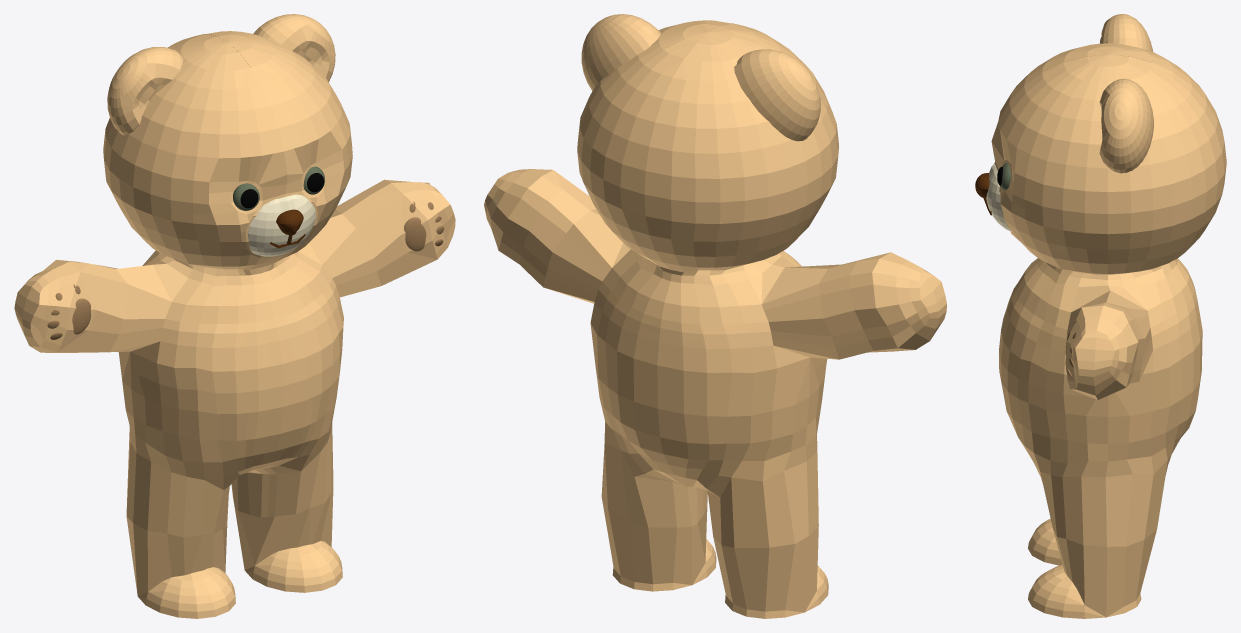
Rendered from teddy_joined_Mati.fbx.
The picture shows the model from 3 angles, left to right: view 1: azimuth 30°, elevation 25°; view 2: azimuth 150°, elevation 25°; view 3: azimuth 270°, elevation 25°; orthographic projection. The views are drawn at different scales.
Parts seen in each view (by area): view 1: Sphere.001; view 2: Sphere.001; view 3: Sphere.001.
Part boxes in pixels (bbox=[...]): Sphere.001: bbox=[14, 14, 455, 618]; Sphere.001: bbox=[484, 14, 946, 618]; Sphere.001: bbox=[975, 14, 1226, 618].
Bounding box in the file's own units: 514 × 623 × 269.
